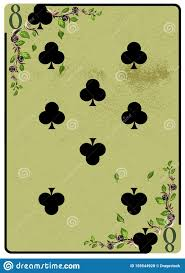eigth of clubs: (5, 2, 179, 253)
